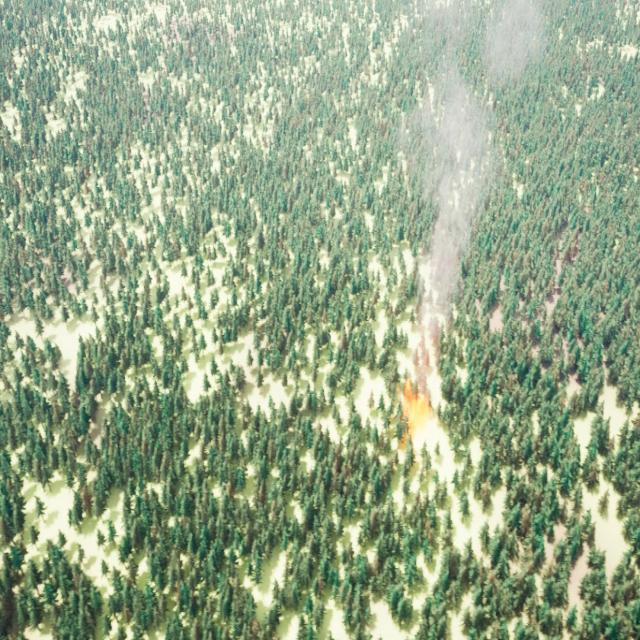fire: (390, 381, 432, 437)
smoke: (399, 0, 543, 368)
